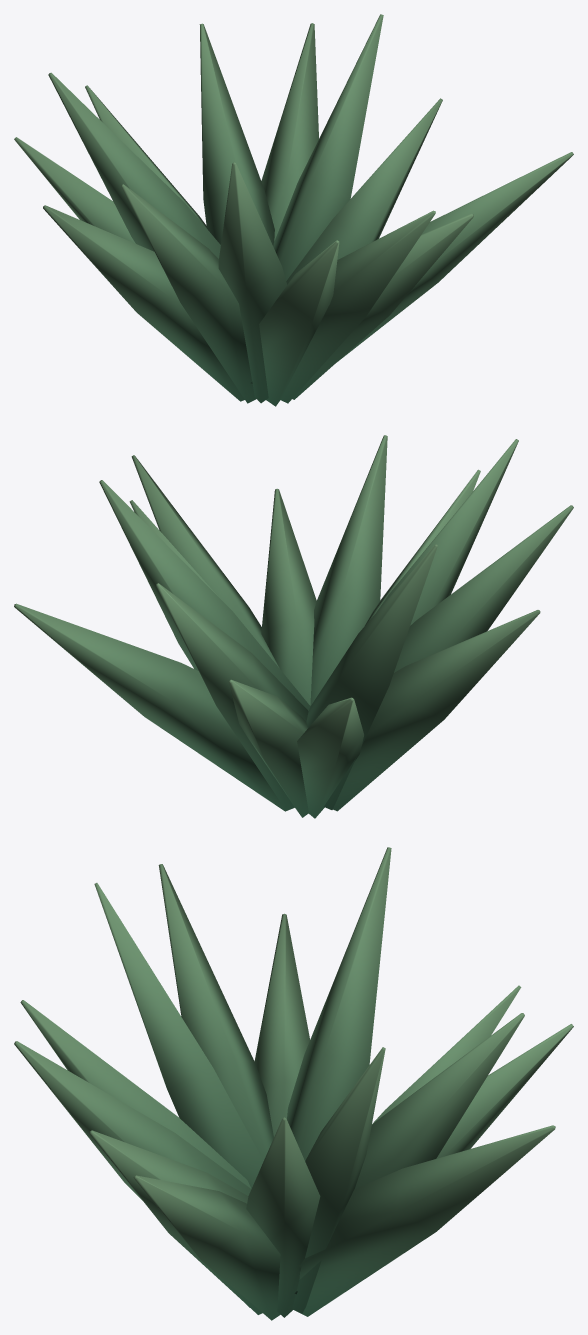
Rendered from kp_agave.fbx.
The picture shows the model from 3 angles, top to bottom: view 1: azimuth 30°, elevation 25°; view 2: azimuth 150°, elevation 25°; view 3: azimuth 270°, elevation 25°; orthographic projection. The views are drawn at different scales.
Visible parts, largest first — view 1: Asset_Agave; view 2: Asset_Agave; view 3: Asset_Agave.
Part boxes in pixels (x1,y1,x2,y2): Asset_Agave: [14, 14, 573, 406]; Asset_Agave: [14, 435, 573, 818]; Asset_Agave: [14, 847, 573, 1320].
Bounding box in the file's own units: 2.66 × 1.82 × 2.49.
1 material, 1 textured.
